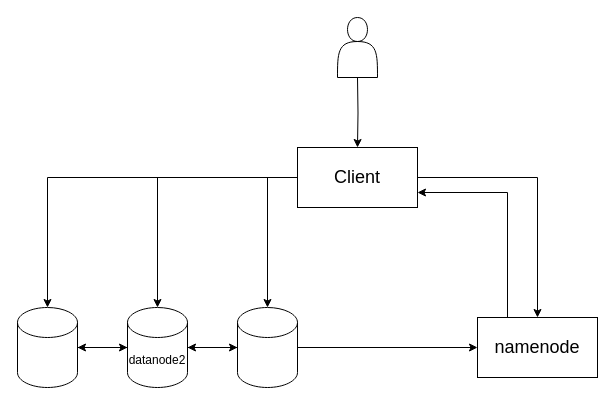
Image size: 615x405. Some labels were removed from this diagram. Each missing label, with the centre of its shape:
"datanode1" belongs at [47,347].
"datanode3" belongs at [267,347].
